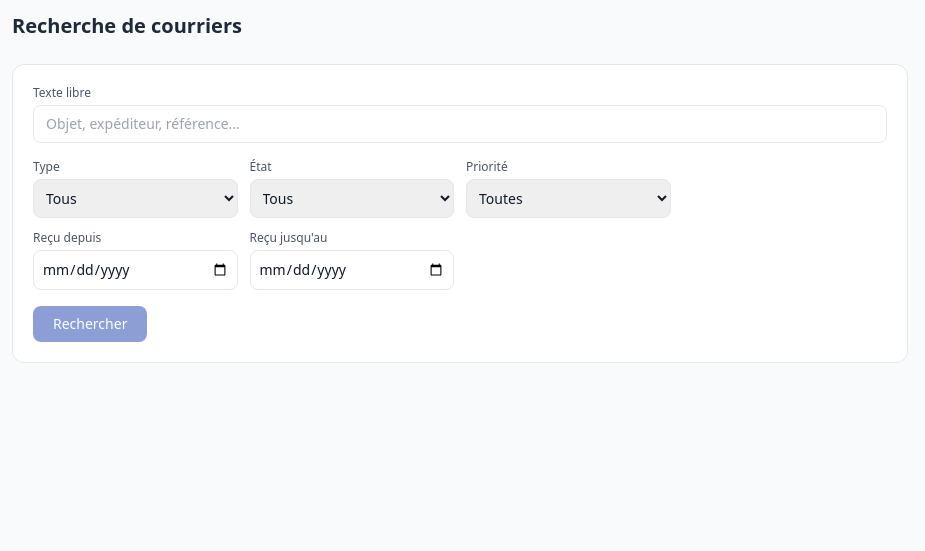
Test: RecherchePage › affiche l'état vide si l'API retourne zéro résultat
In the field with placeholder "Objet, expéditeur, référence…": (460, 124) [33,105,887,143], type "xyz"
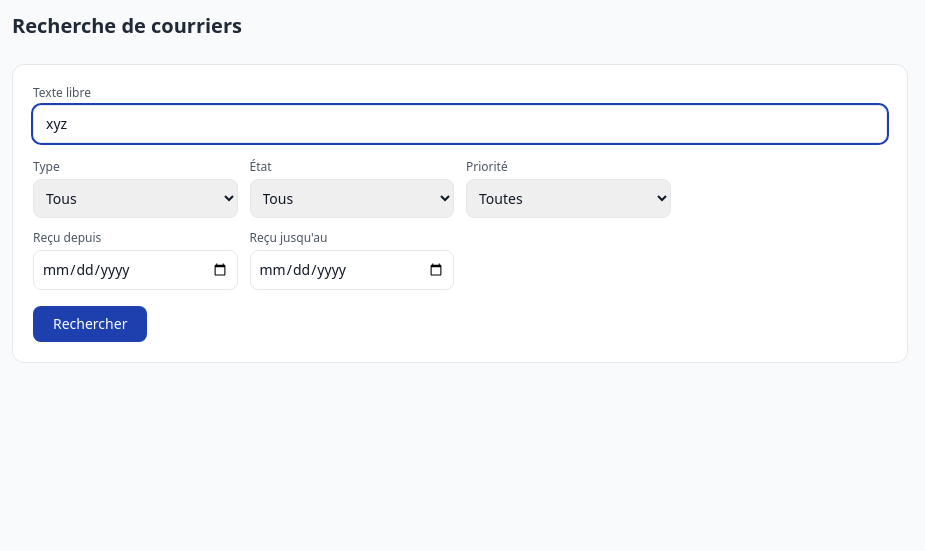
Click the button "Rechercher": (90, 324) [33,306,147,342]
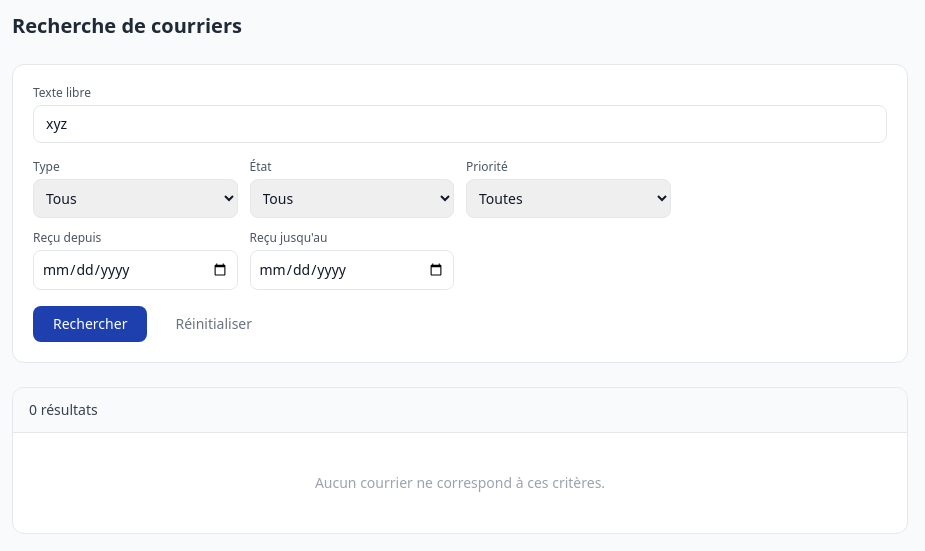
Expected: the text "Aucun courrier ne correspond à ces critères." is shown, [315,473,605,492]
